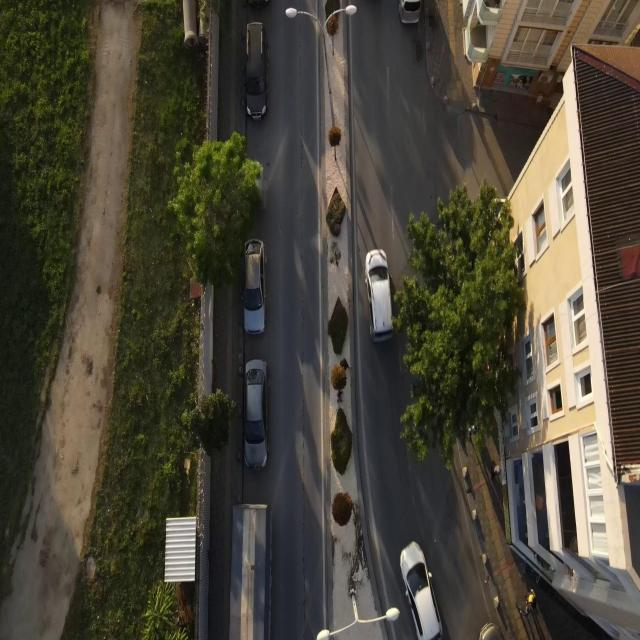p3rson: (524, 587, 538, 609), (514, 601, 532, 616)
